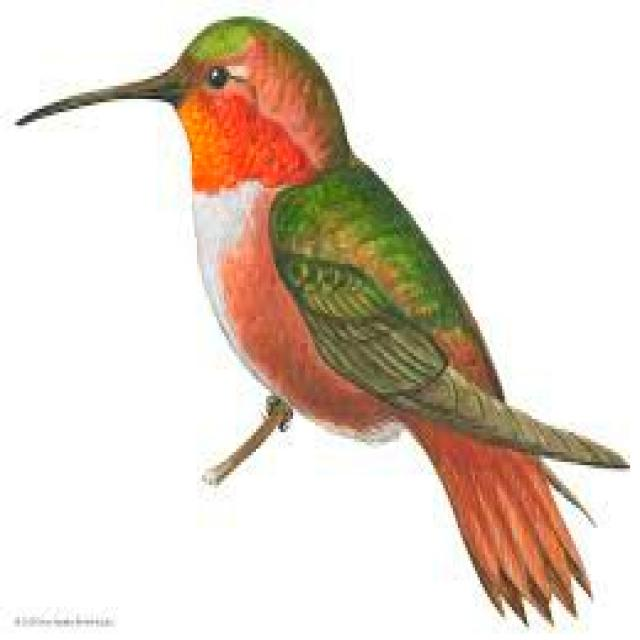hummingbird: (20, 16, 625, 617)
